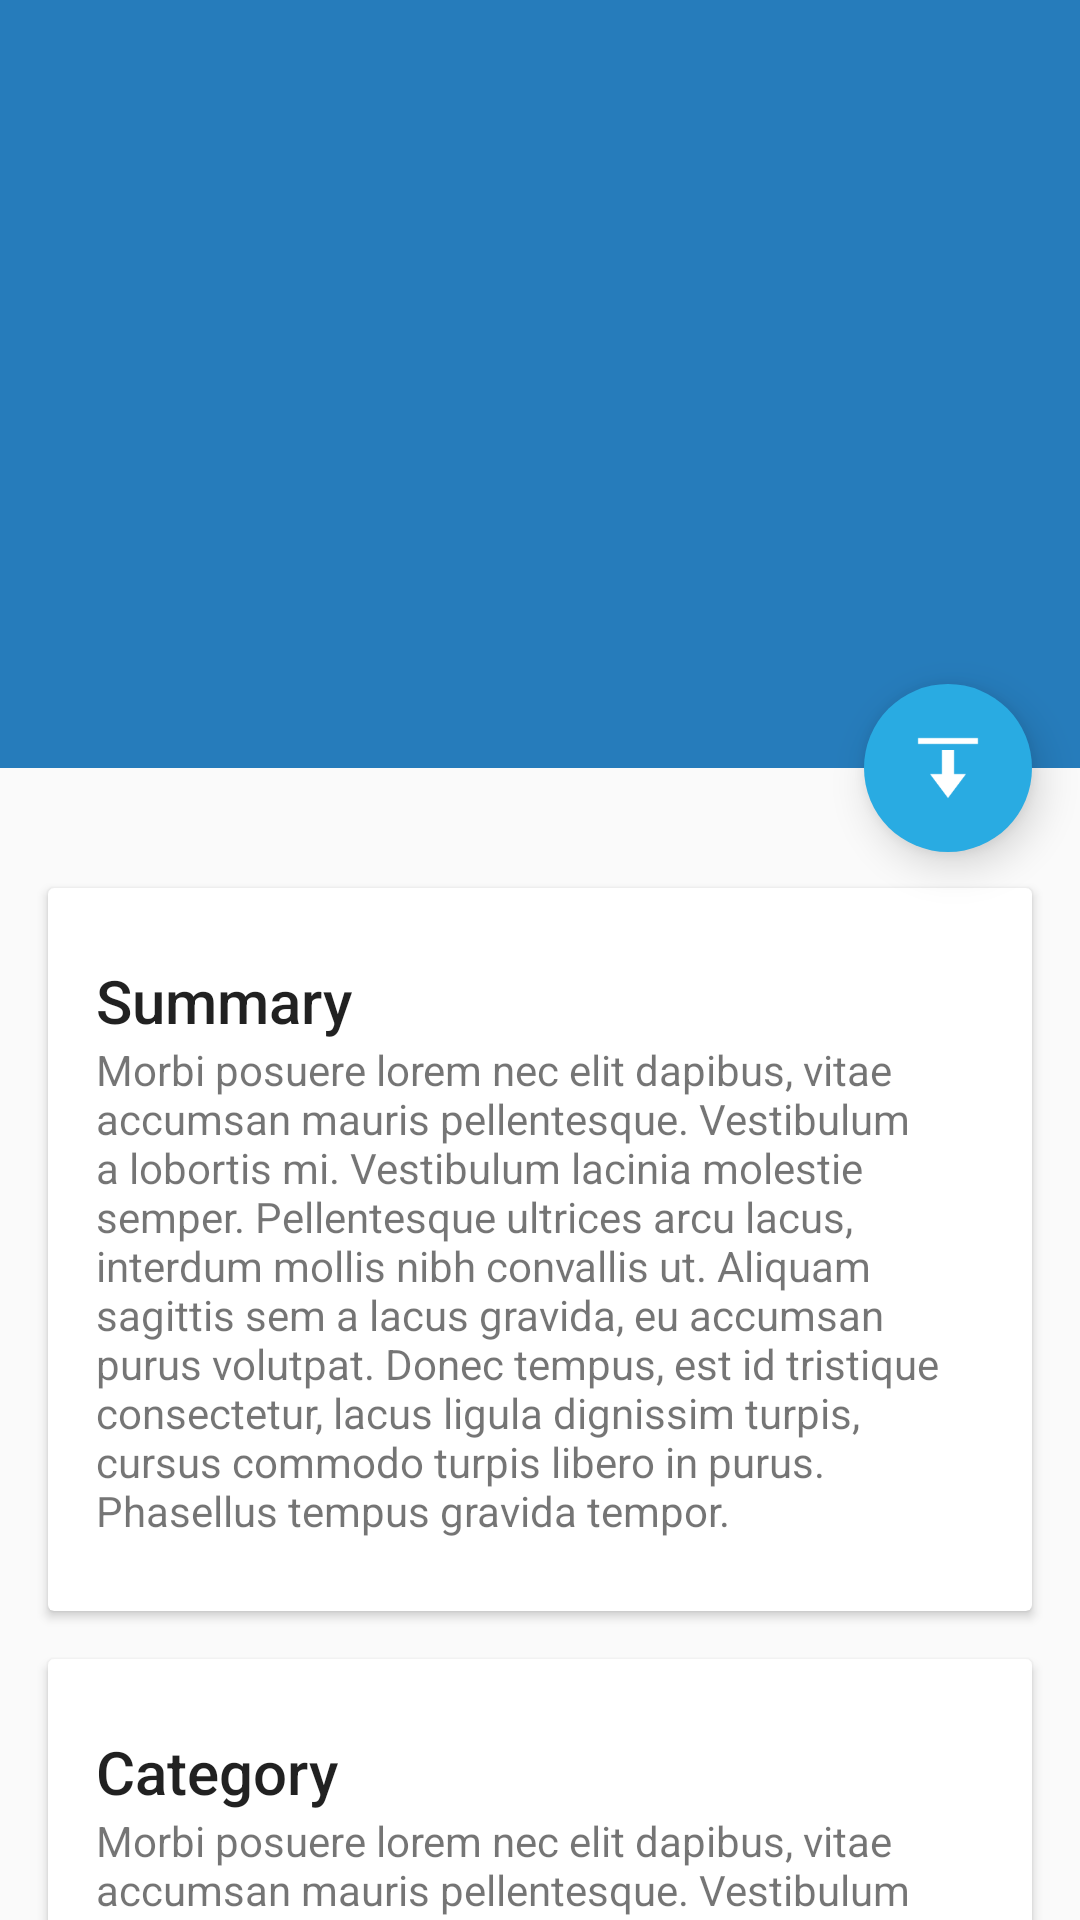

Icons on this 1080w x 1920h Android screen, each with the point to tap as (x=x, y=y):
download: (x=948, y=768)
